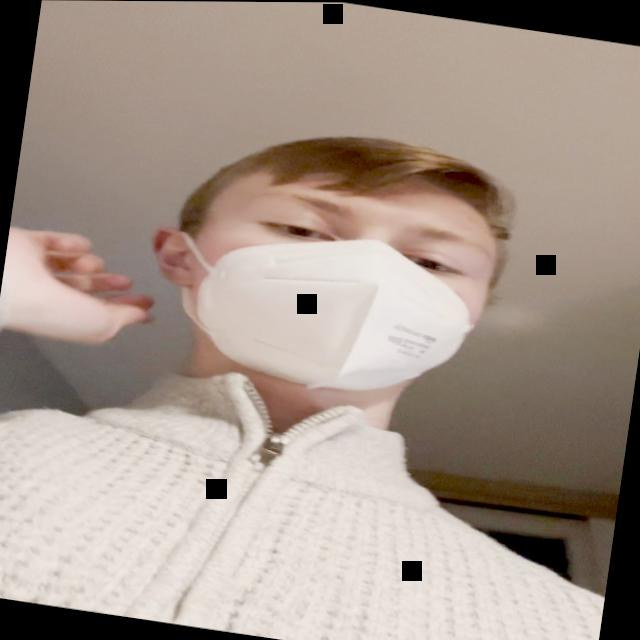Mask: (130, 108, 536, 437)
